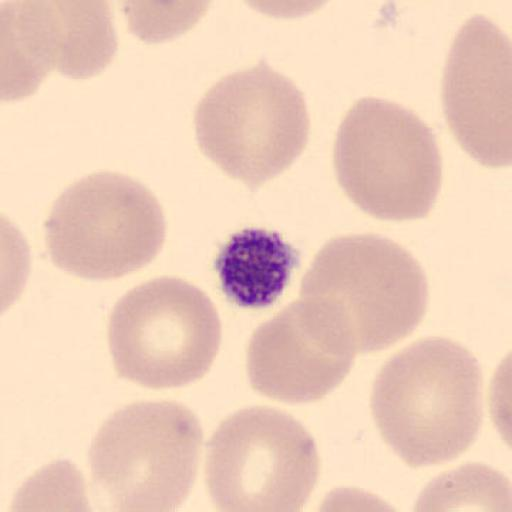Platelet: (211, 223, 302, 310)
RBC: (296, 230, 431, 358), (191, 60, 312, 191), (369, 334, 484, 470), (332, 94, 446, 225), (42, 167, 168, 283), (105, 274, 224, 392), (85, 398, 205, 512), (201, 403, 324, 511), (244, 296, 358, 406), (438, 11, 512, 168), (40, 1, 119, 81), (2, 0, 61, 104), (409, 460, 512, 512), (7, 457, 97, 512), (119, 0, 215, 45), (1, 212, 32, 317), (308, 484, 412, 512), (489, 348, 512, 452), (231, 0, 344, 21)
